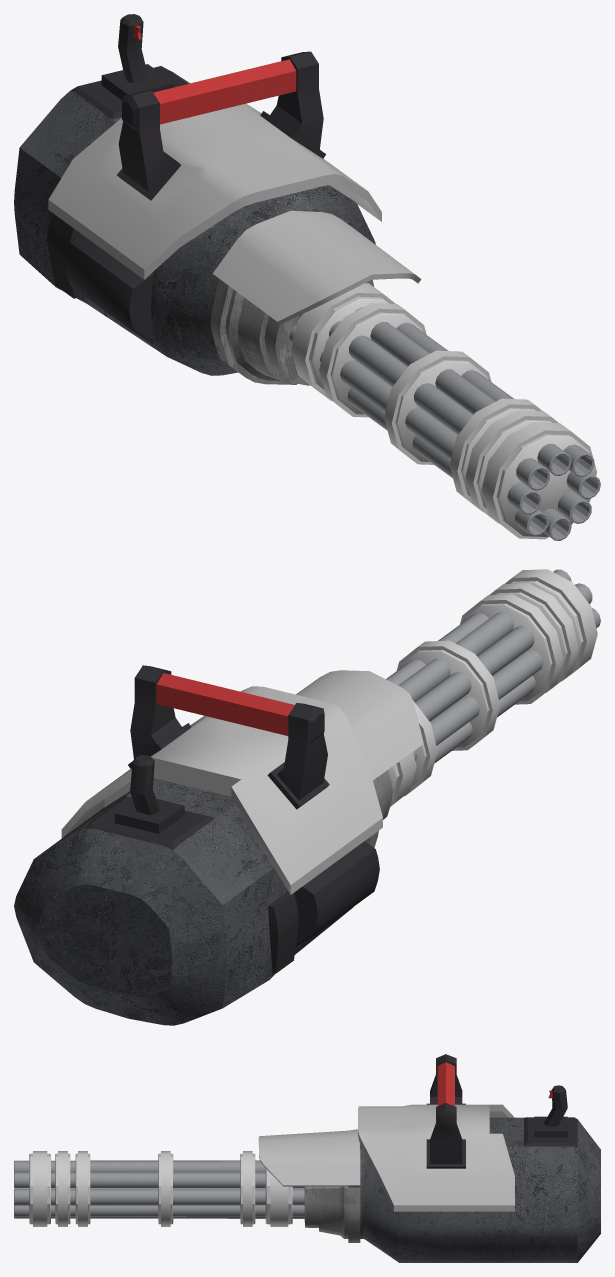
Rendered from Mini gun v2 model.fbx.
3 renders of one model, top to bottom at view 1: azimuth 30°, elevation 25°; view 2: azimuth 150°, elevation 25°; view 3: azimuth 270°, elevation 25°, orthographic. The views are drawn at different scales.
Visible parts, largest first — view 1: Box001; view 2: Box001; view 3: Box001.
Part boxes in pixels (left/top/right/bottom): Box001: left=14, top=14, right=600, bottom=540; Box001: left=14, top=569, right=600, bottom=1025; Box001: left=14, top=1054, right=600, bottom=1262.
Bounding box in the file's own units: 50.23 × 52.33 × 164.
